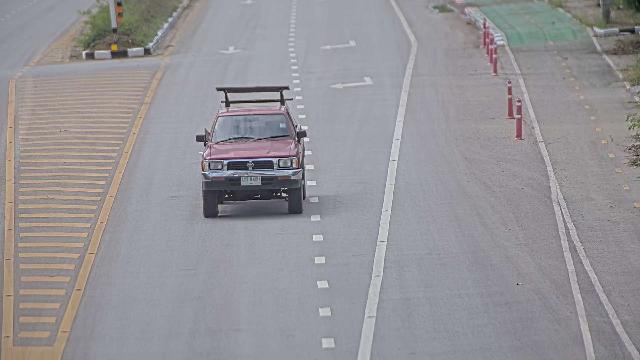pickup-truck: (195, 84, 308, 218)
